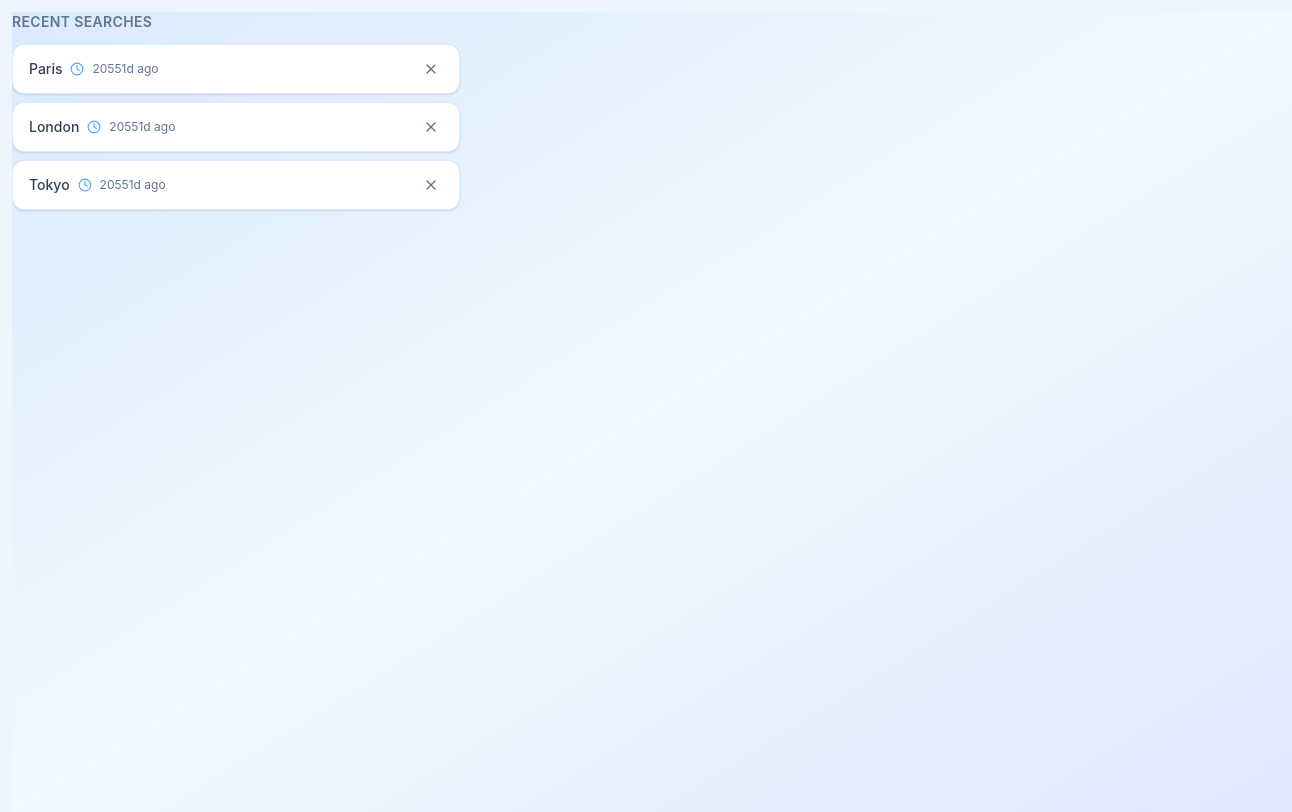
Test: Remove and undo flow integration › toast auto-dismiss › does not restore the removed item after auto-dismiss
Click the button named "remove paris": (431, 69) [419,57,443,81]
Wait 5000 ms
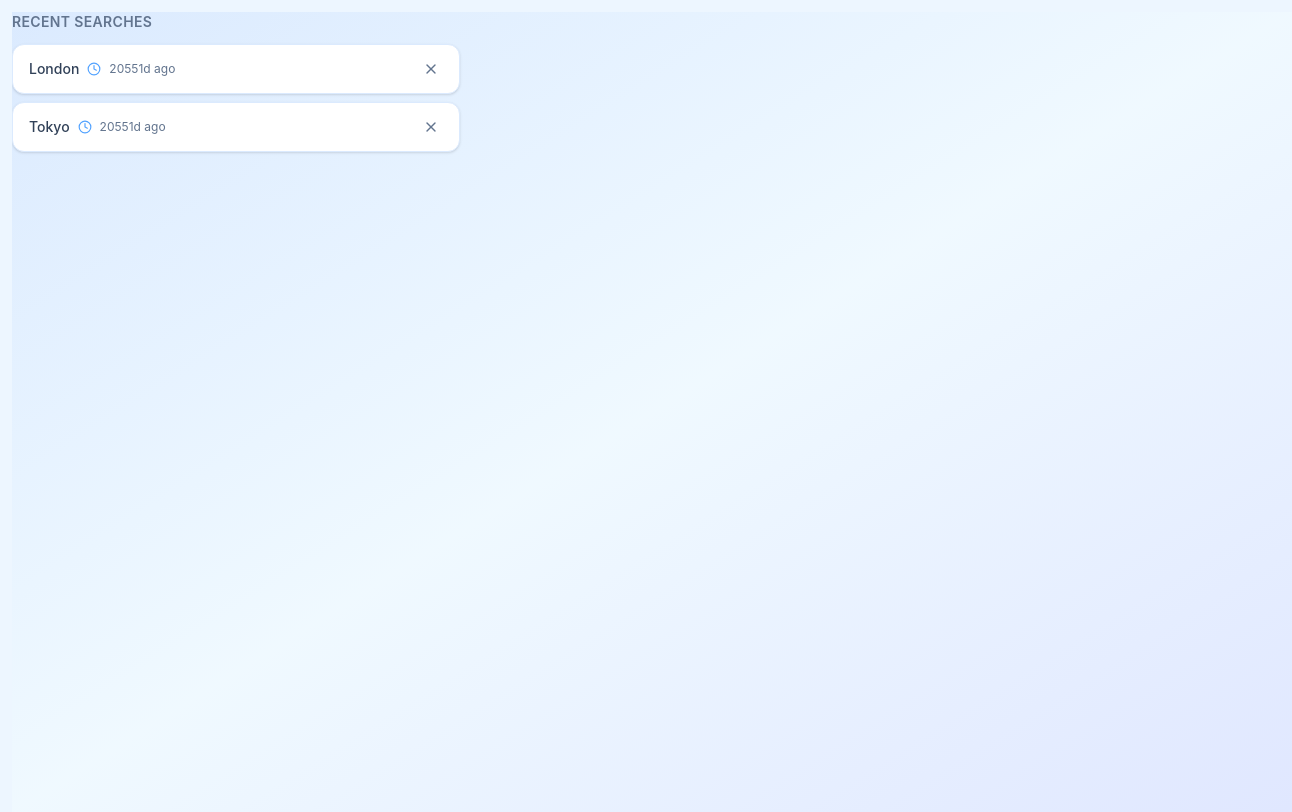
expect the button "Paris" is gone: met
